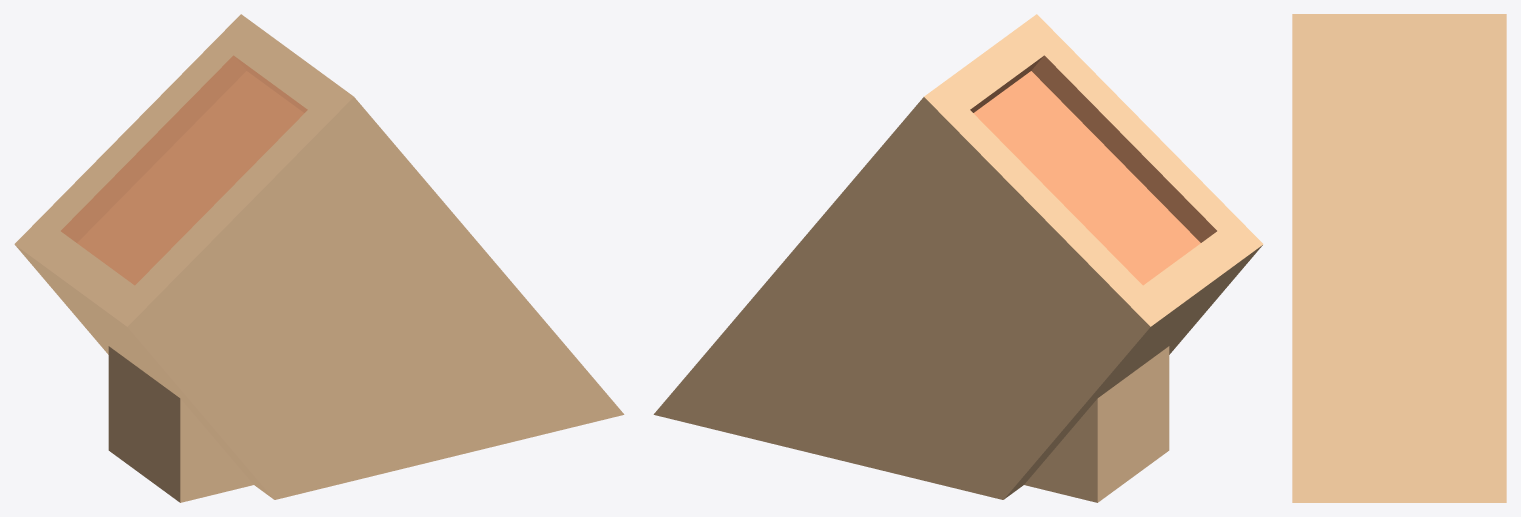
Rendered from knifeBlock.GLB.
3 views of the same model, side by side, from view 1: azimuth 30°, elevation 25°; view 2: azimuth 150°, elevation 25°; view 3: azimuth 270°, elevation 25° (orthographic). The views are drawn at different scales.
Visible parts, largest first — view 1: knifeBlock; view 2: knifeBlock; view 3: knifeBlock.
Boxes of the visible parts, left/top/right/bottom form: knifeBlock: left=14, top=14, right=624, bottom=502; knifeBlock: left=653, top=14, right=1263, bottom=502; knifeBlock: left=1292, top=14, right=1506, bottom=502.
Size of the model in its own units: 0.5635 by 0.4159 by 0.2218.
